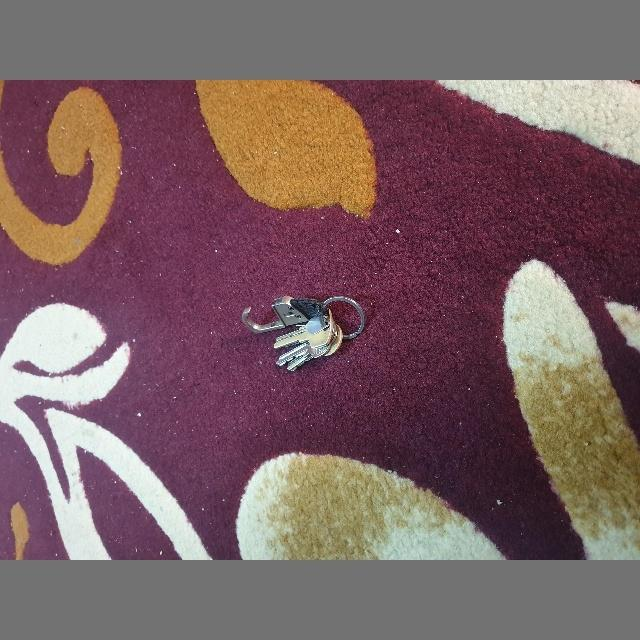Keys: (240, 292, 366, 372)
